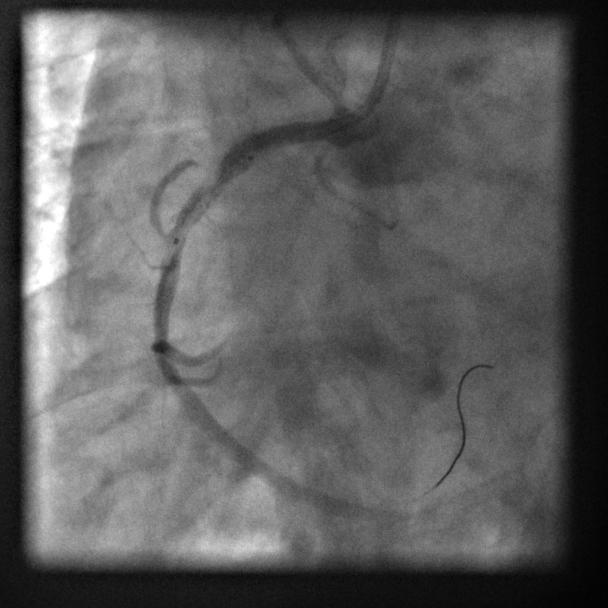Stenosis: (193, 162, 230, 209)
